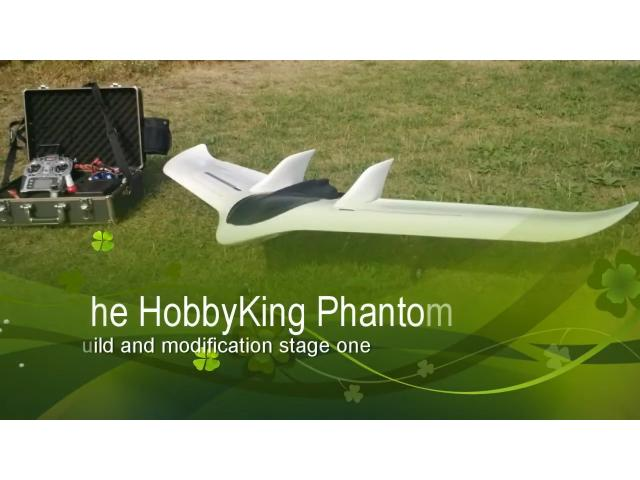Anti-Drone: (152, 113, 640, 261)
